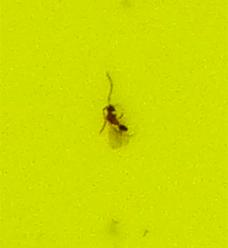Hymenoptera: (100, 100, 128, 148)
